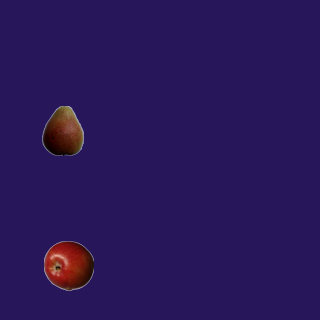Apple Braeburn: (43, 240, 93, 290)
Pear Forelle: (37, 105, 87, 155)
